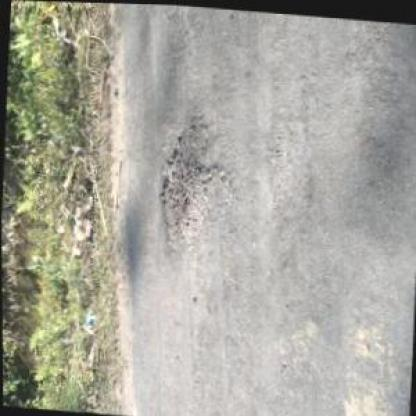pothole: (155, 137, 229, 257)
